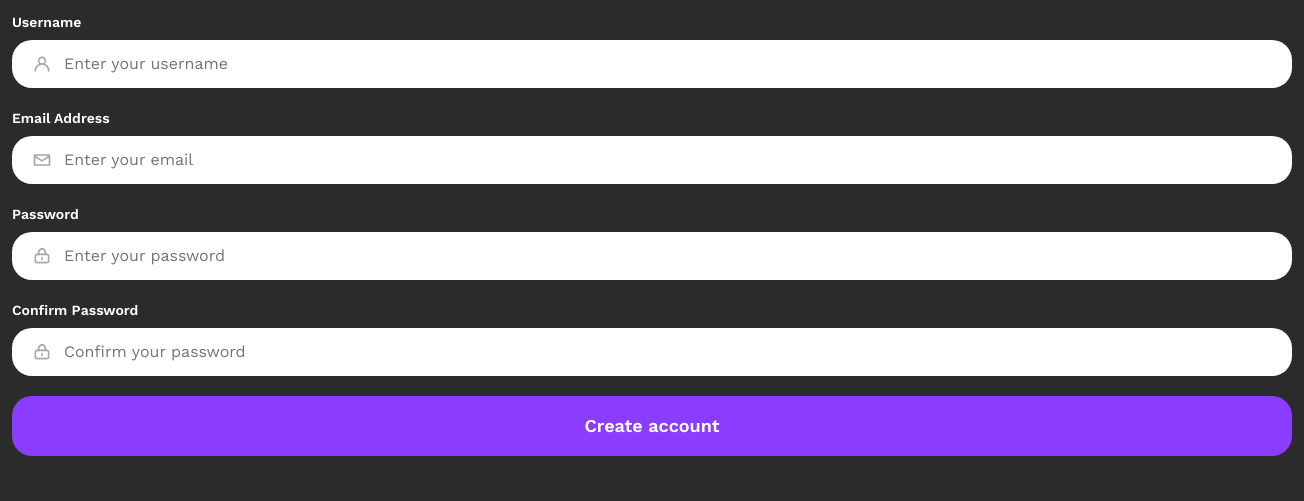
Scenario: CreateAccountForm › rejects a password shorter than the minimum
The width and height of the screenshot is (1304, 501).
Type "satoshi" into the field labelled "Username" at (668, 64), box [64, 52, 1272, 76]
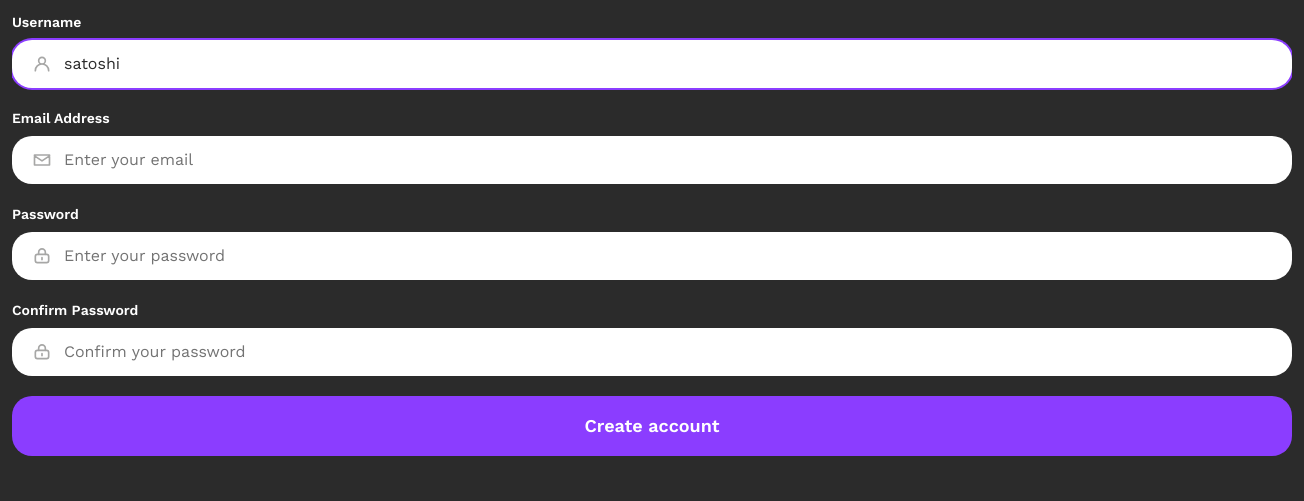
Type "satoshi@example.com" into the field labelled "Email Address" at (668, 160), box [64, 148, 1272, 172]
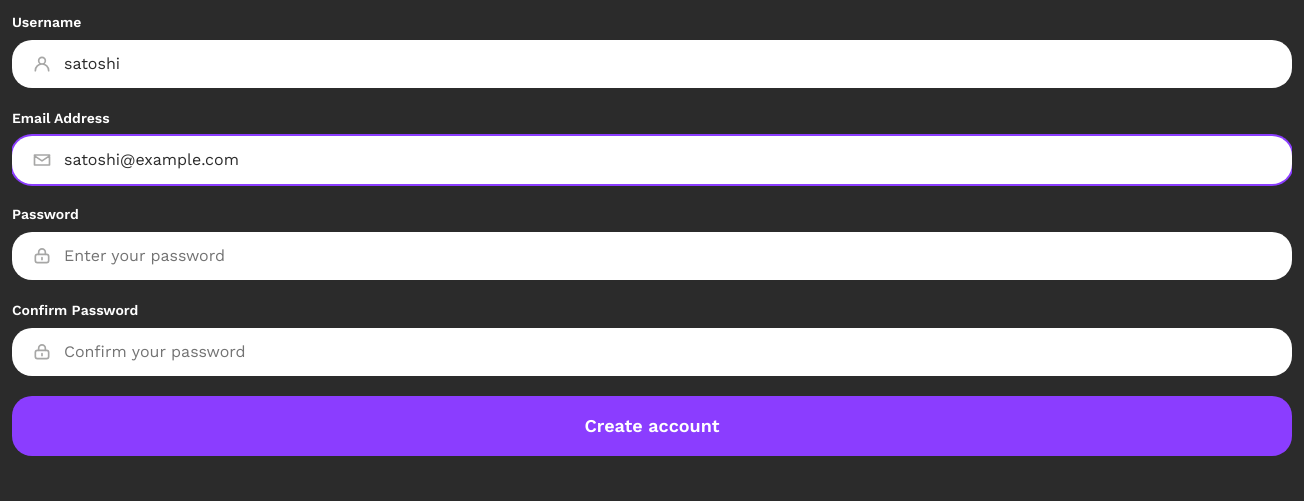
Type "short" into the password field labelled "Password" at (668, 256), box [64, 244, 1272, 268]
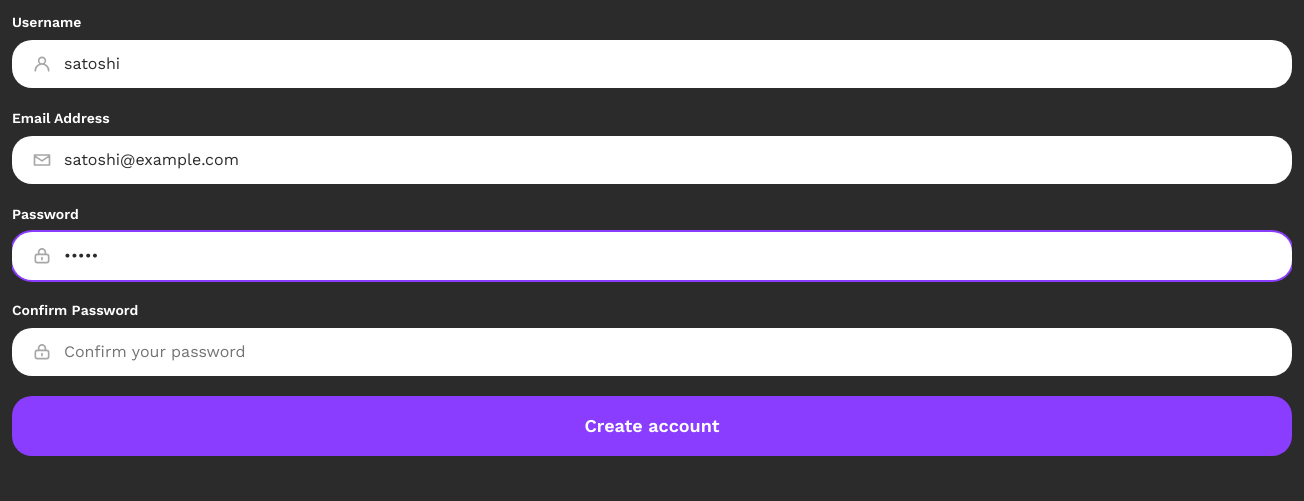
Type "short" into the password field labelled "Confirm Password" at (668, 352), box [64, 340, 1272, 364]
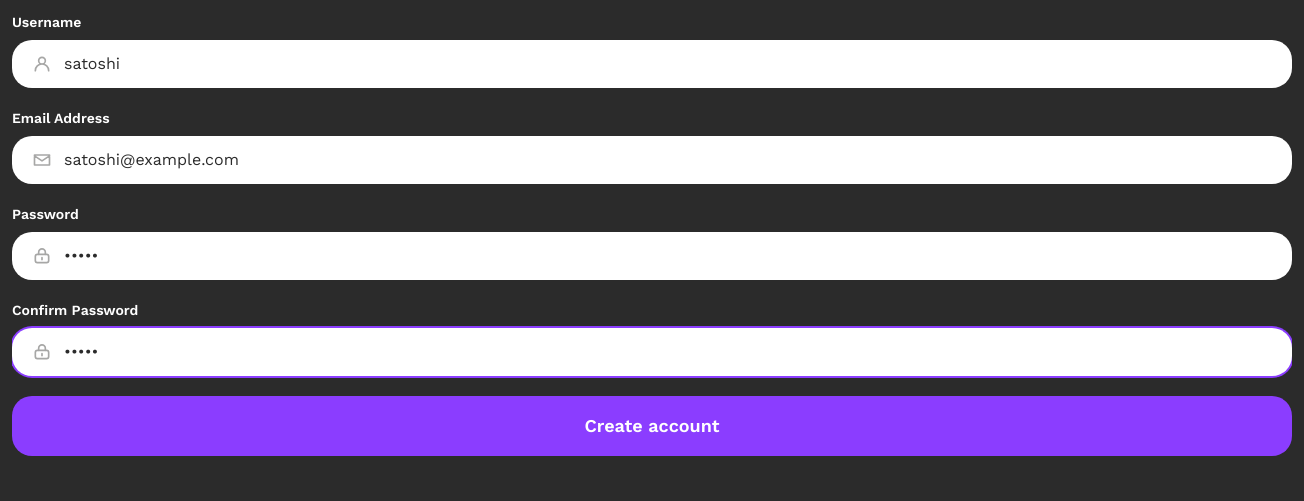
Click the button "Create account" at (652, 426), box [12, 396, 1292, 456]
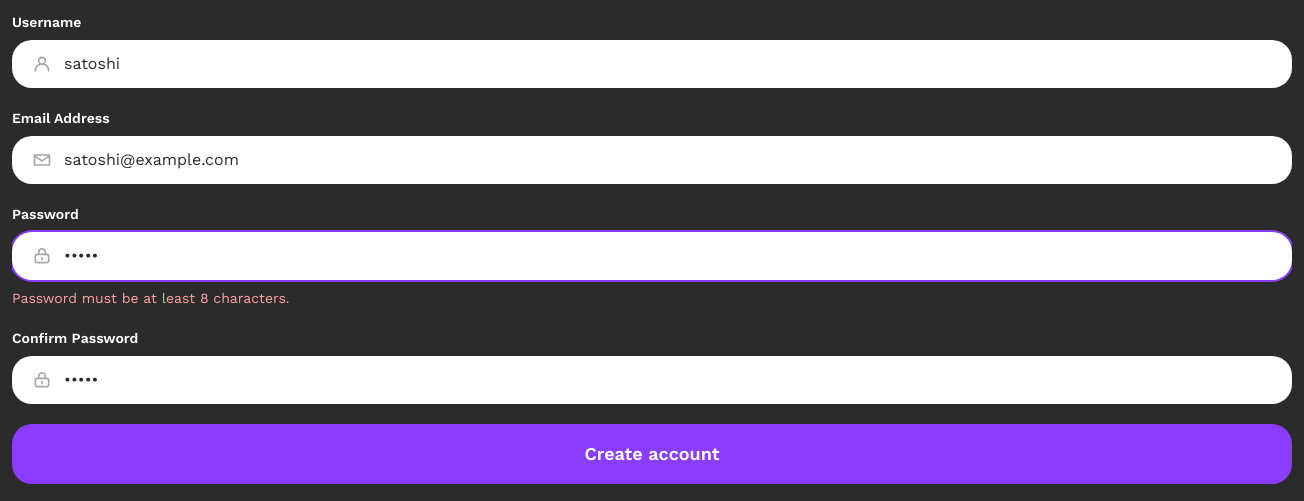
Now the text "Password must be at least 8 characters." is shown, box [12, 290, 290, 306]
